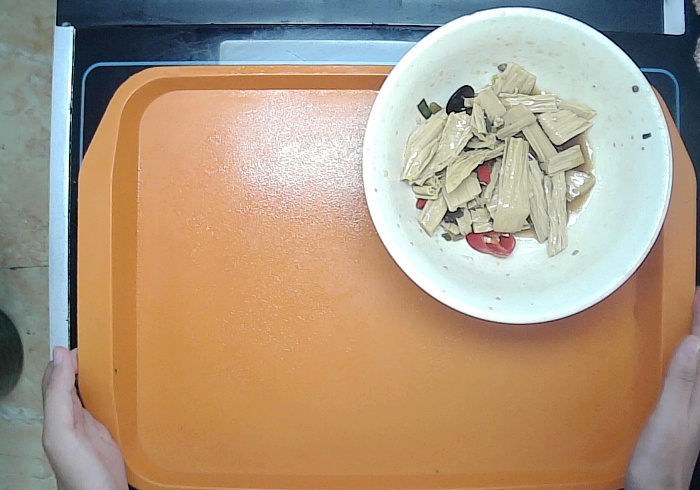ZNLD-Da_Tang_Wan: (348, 2, 699, 325)
